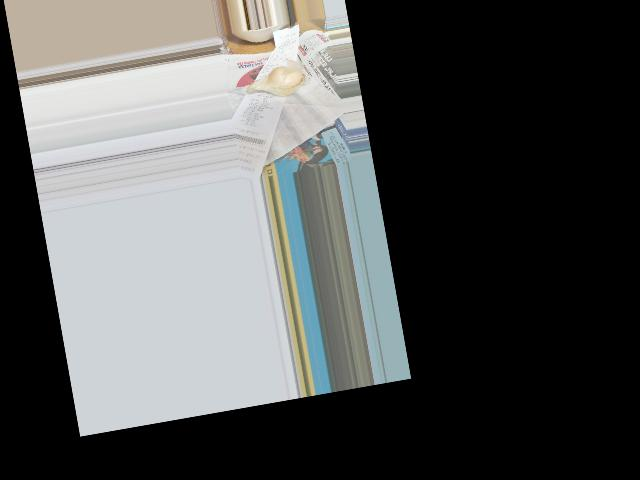onion: (248, 64, 307, 100)
